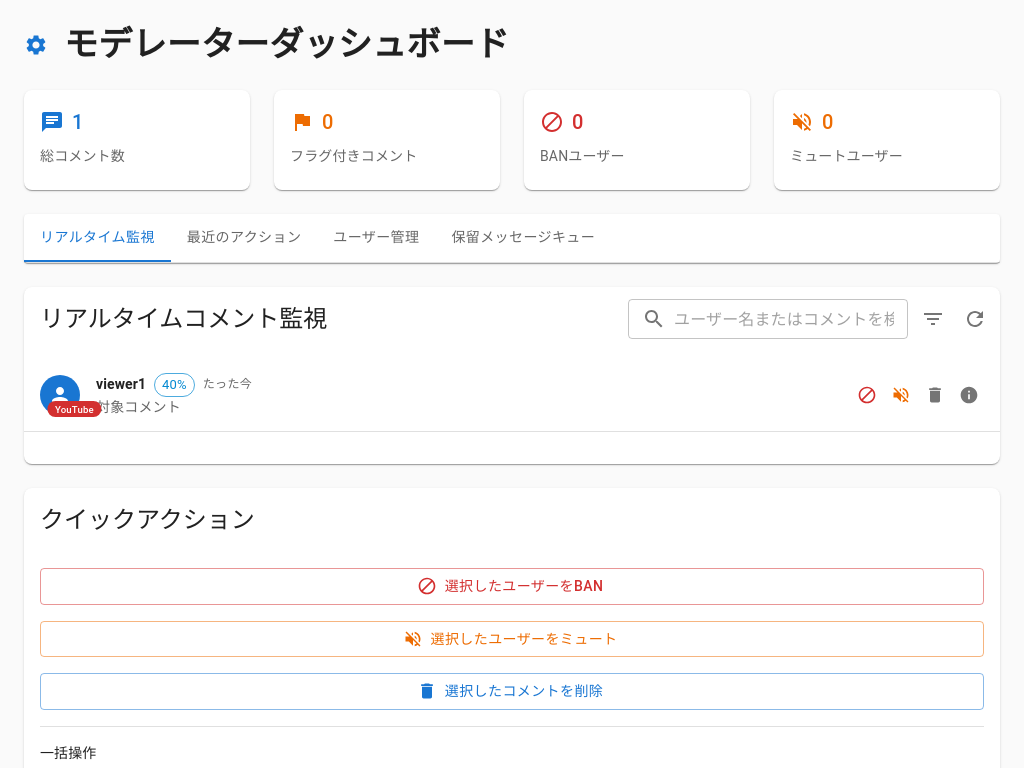
it: モデレーション履歴に架空データを混ぜないこと › 反映できたBANは反映済みと表示する
Expected: the text "対象コメント" is shown, [96,399,181,415]
What coordinates should you click on to do the following:
click the button named "ユーザーをBAN"
I would click on:
 (867, 395)
Its box is [852,380,882,410].
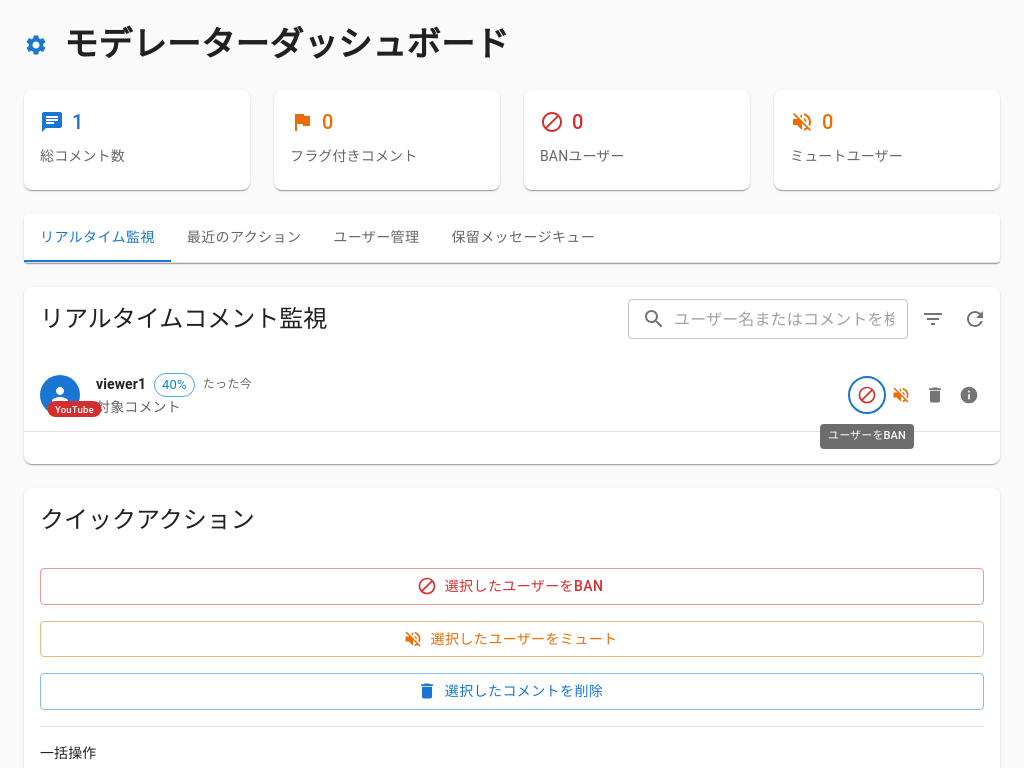
What coordinates should you click on to do the following:
click the tab "最近のアクション"
I would click on:
 (244, 238)
Its box is [171,214,317,262].
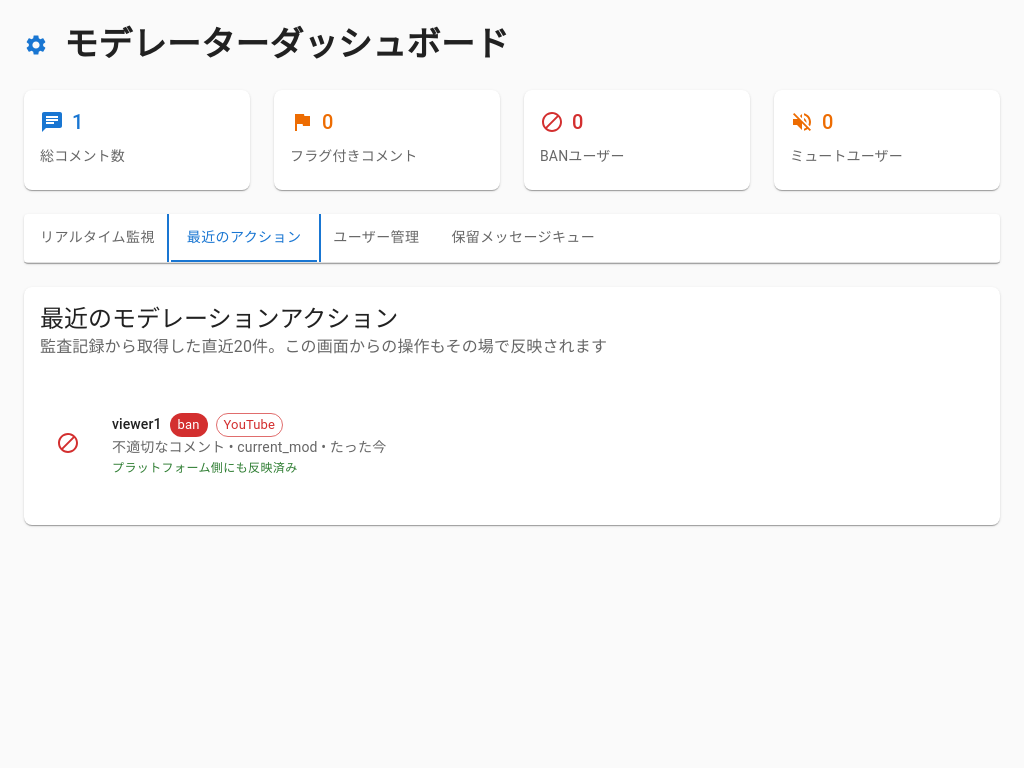
Expected: the text "プラットフォーム側にも反映済み" is shown, [112,461,298,475]
